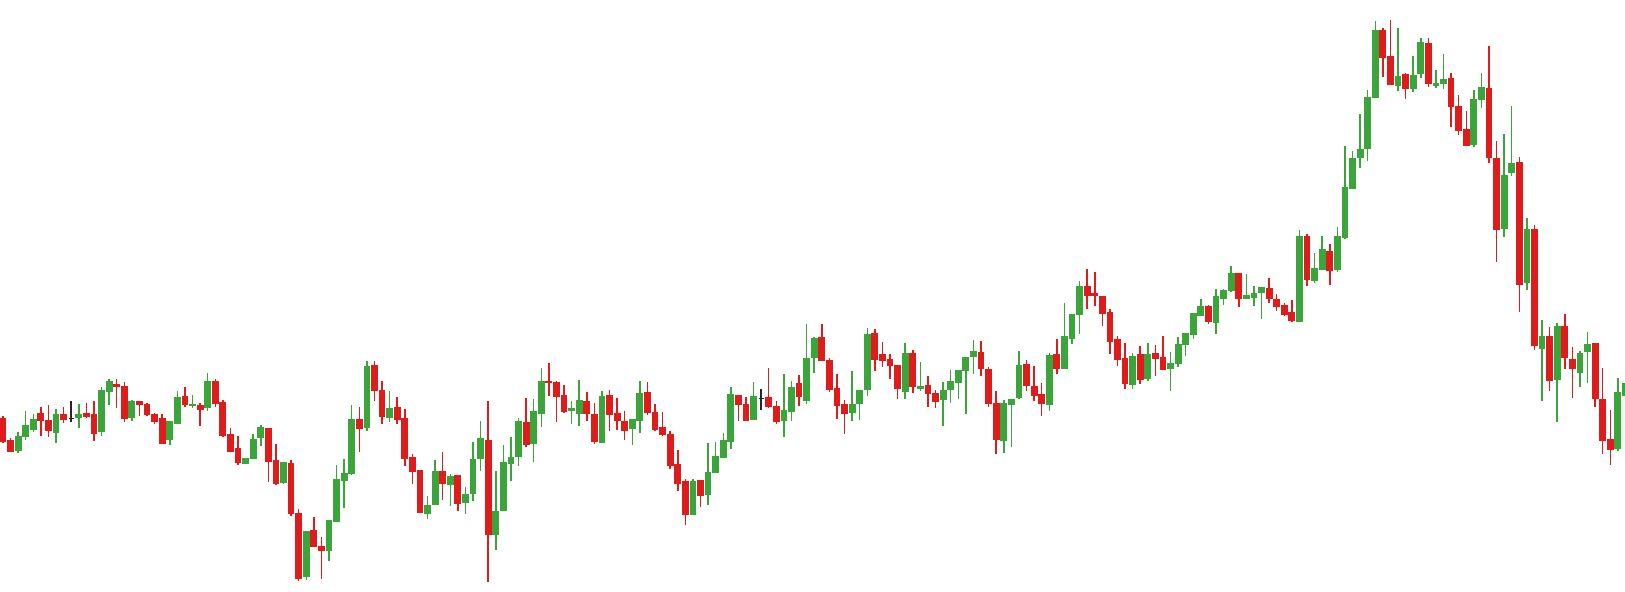buy: (417, 441, 501, 591), (1052, 310, 1135, 398), (938, 366, 1009, 462), (788, 355, 855, 436)
sell: (1437, 39, 1496, 128), (174, 368, 219, 421)
